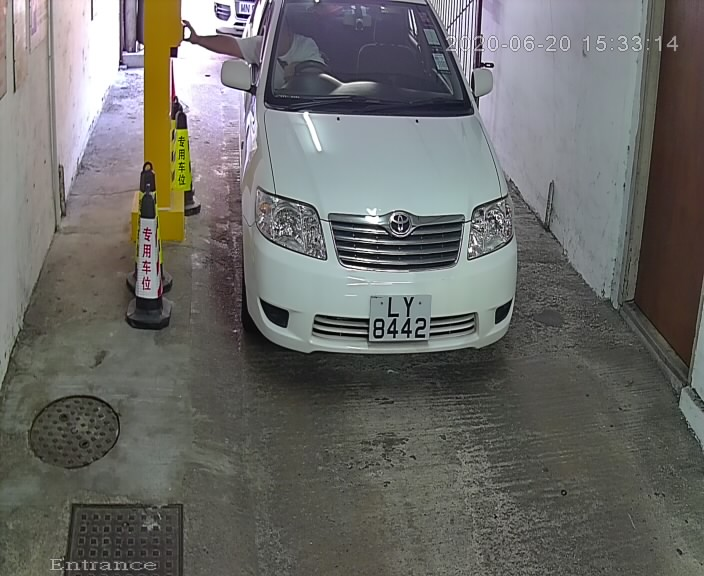privatecar: (215, 3, 528, 375)
